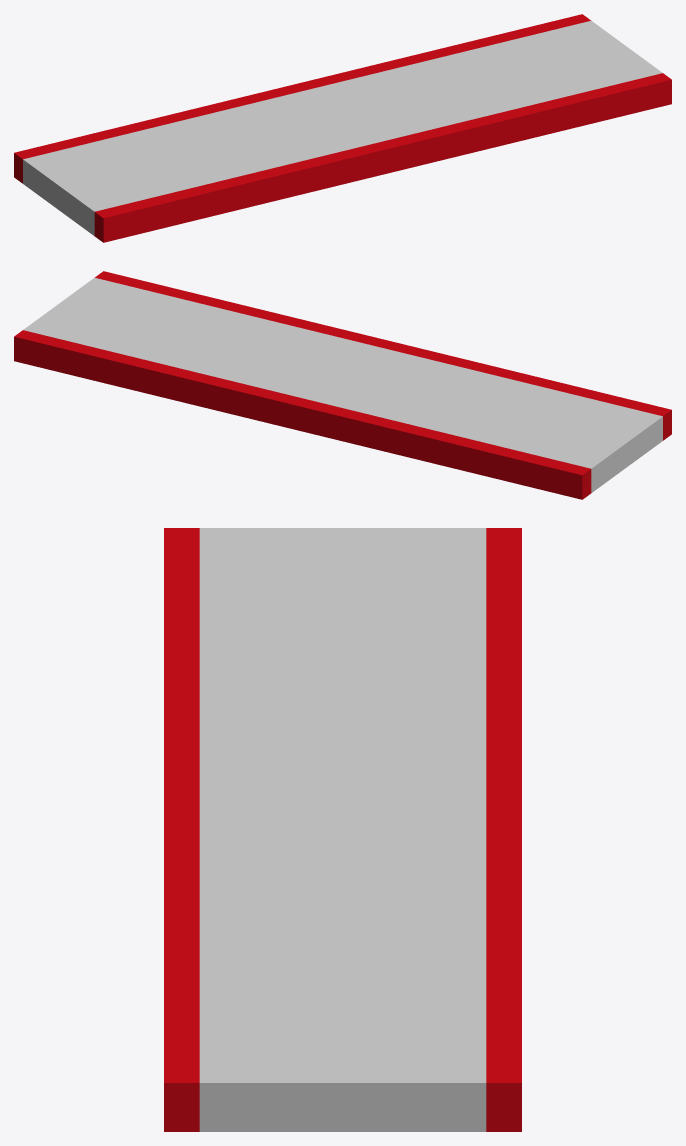
File: upperpath.fbx
3 renders of one model, top to bottom at view 1: azimuth 30°, elevation 25°; view 2: azimuth 150°, elevation 25°; view 3: azimuth 270°, elevation 25°, orthographic. The views are drawn at different scales.
Visible parts, largest first — view 1: Cube; view 2: Cube; view 3: Cube.
Boxes of the visible parts, x1,y1,x2,y2 form: Cube: [14, 14, 671, 242]; Cube: [14, 271, 671, 499]; Cube: [164, 528, 521, 1131].
Size of the model in its own units: 972 by 40.11 by 265.
